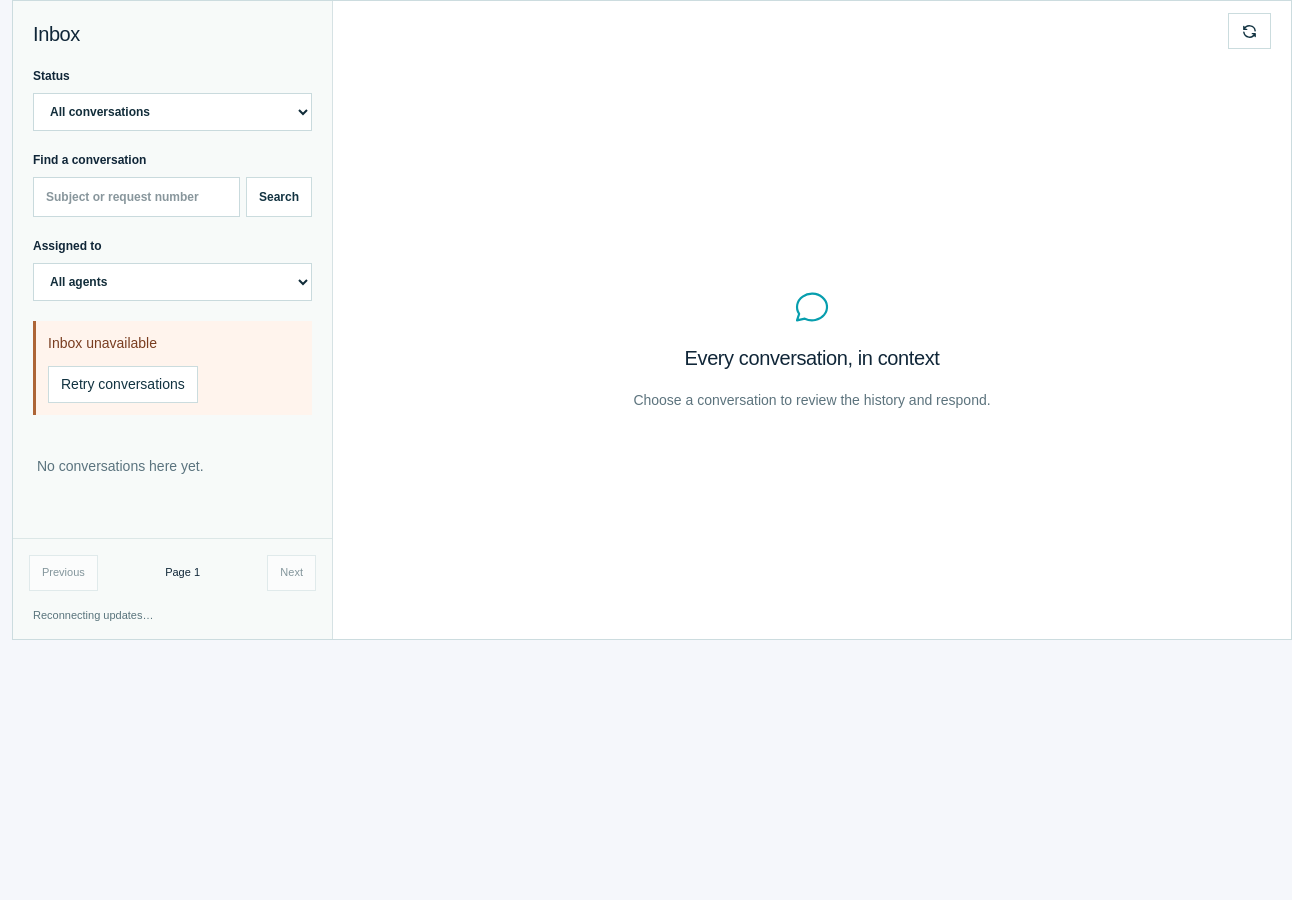
Test: shows inbox failures beside the list and recovers on retry
This screenshot has width=1292, height=900.
Expected: the message "Inbox unavailable Retry conversations" is shown, [33,321,312,415]
Step 1. Click the button "Retry conversations" → (123, 384), box [48,366,198,403]
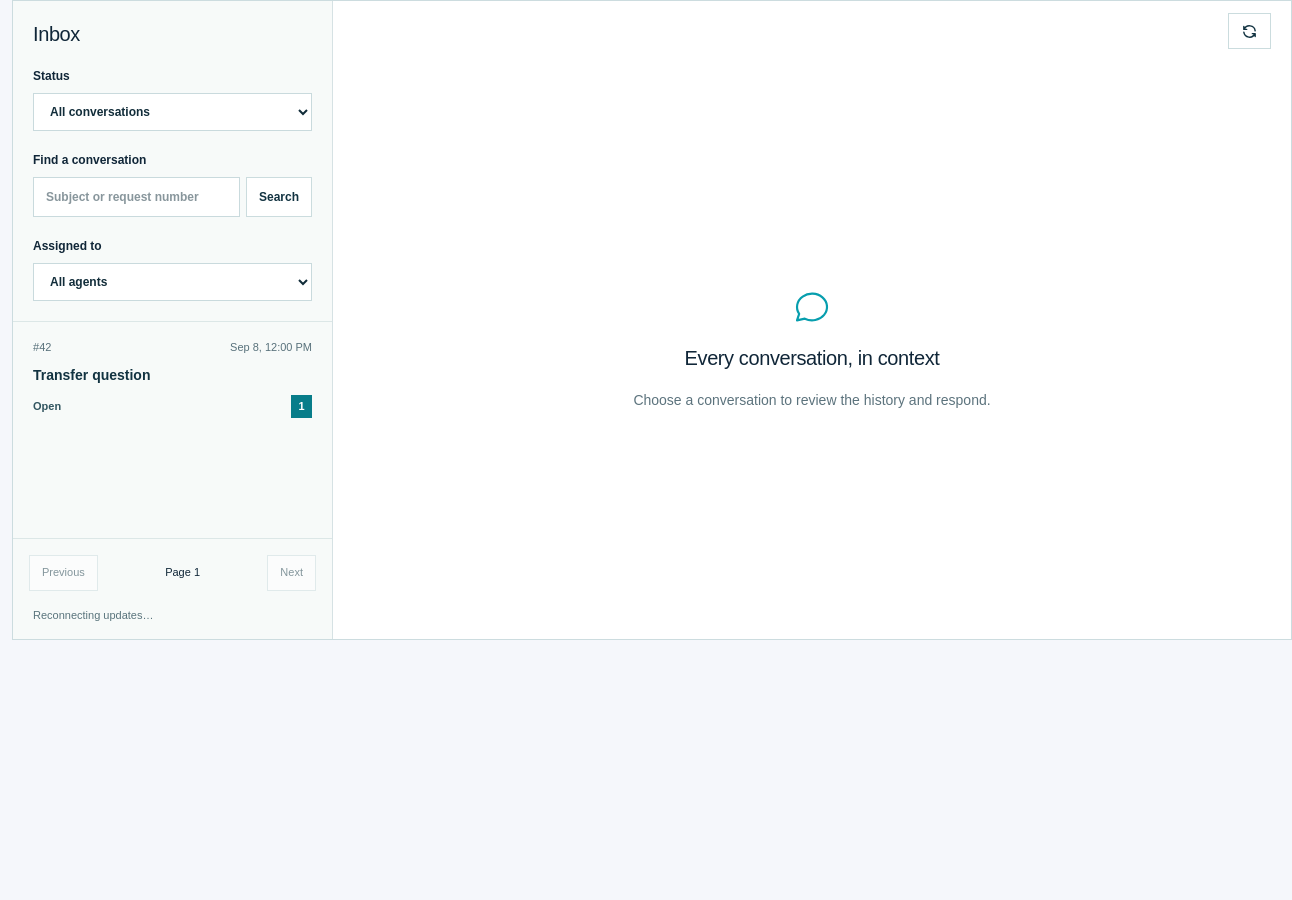
Expected: the button "#42 Sep 8, 12:00 PM Transfer question open 1" is shown, [13,321,332,435]
Expected: the text "Inbox unavailable" is gone
